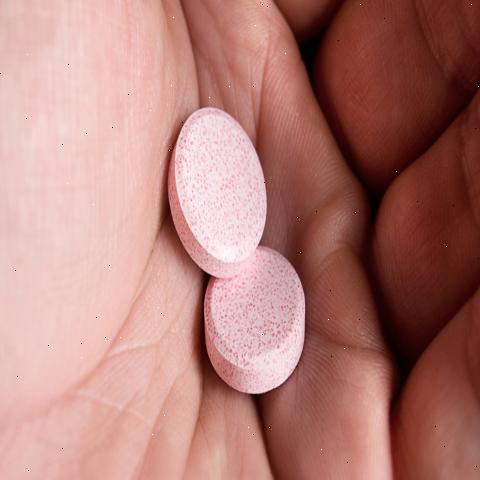Pill: (164, 94, 282, 274), (204, 249, 313, 401)
